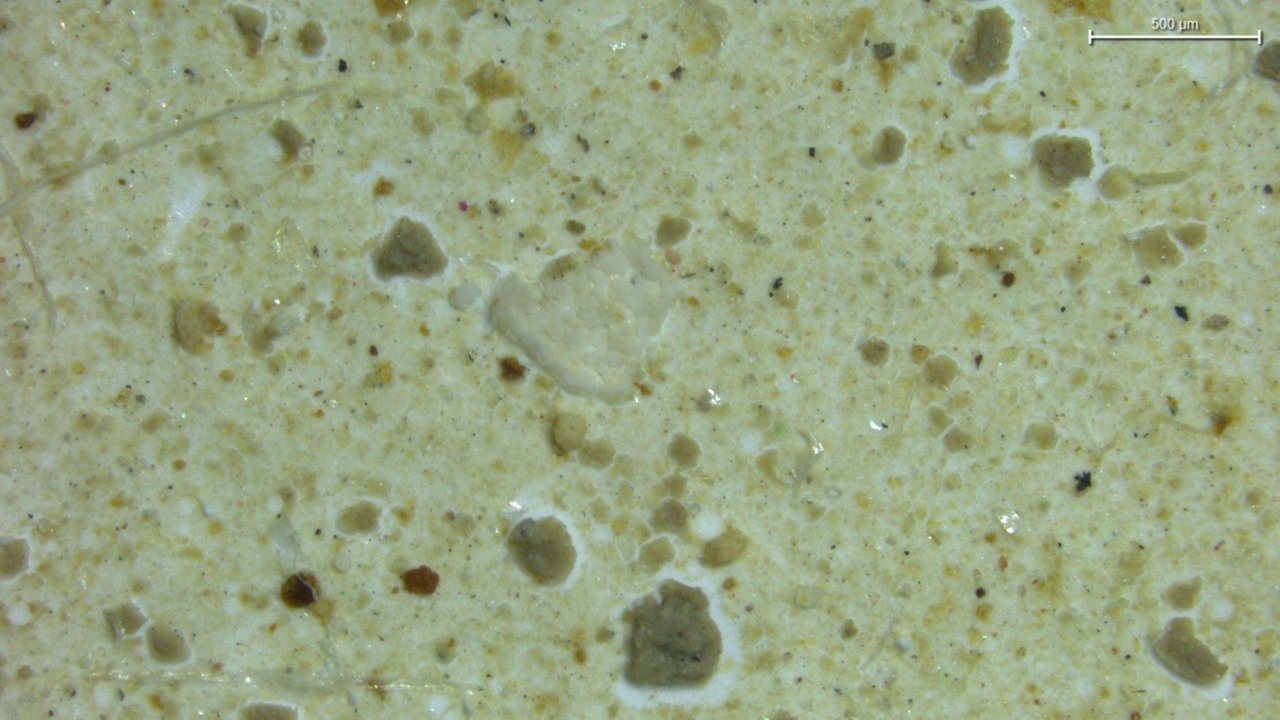microplastic_fragment: (488, 240, 675, 403), (550, 411, 589, 455), (449, 281, 481, 309)
